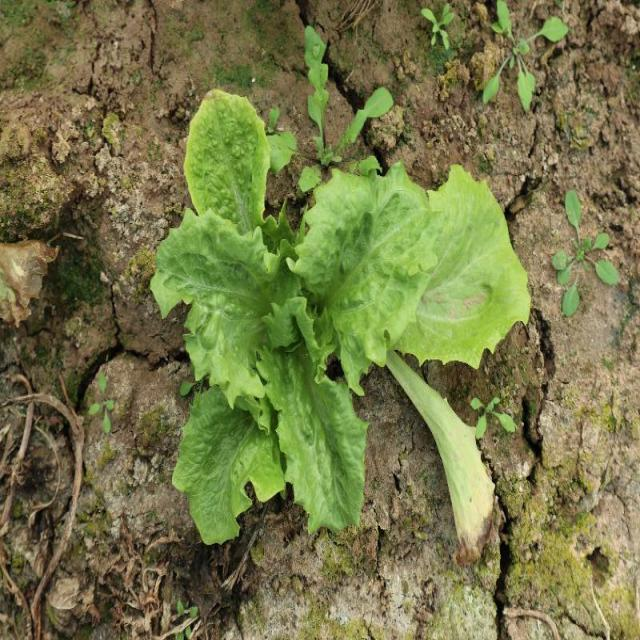crop: (148, 98, 429, 541)
